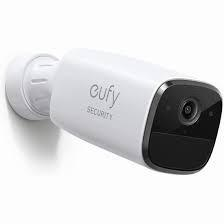tutu: (25, 43, 224, 180)
